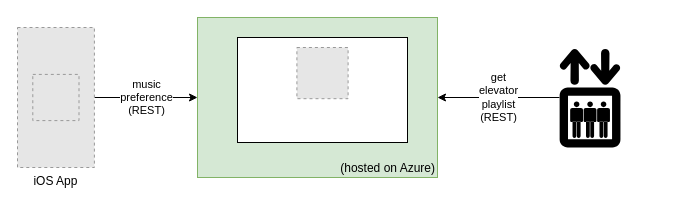
The diagram is 690 pixels wide and 206 high, and some of its shapes have lost their labels. Grey dashed boxes stand in for pictures. Here are the shapes that lost their labels. From the top down, the box of each, then its label:
(236, 36, 408, 142): Backend (Managing music preferences and playlists)
(557, 47, 622, 147): (a frontend for demo purposes)
